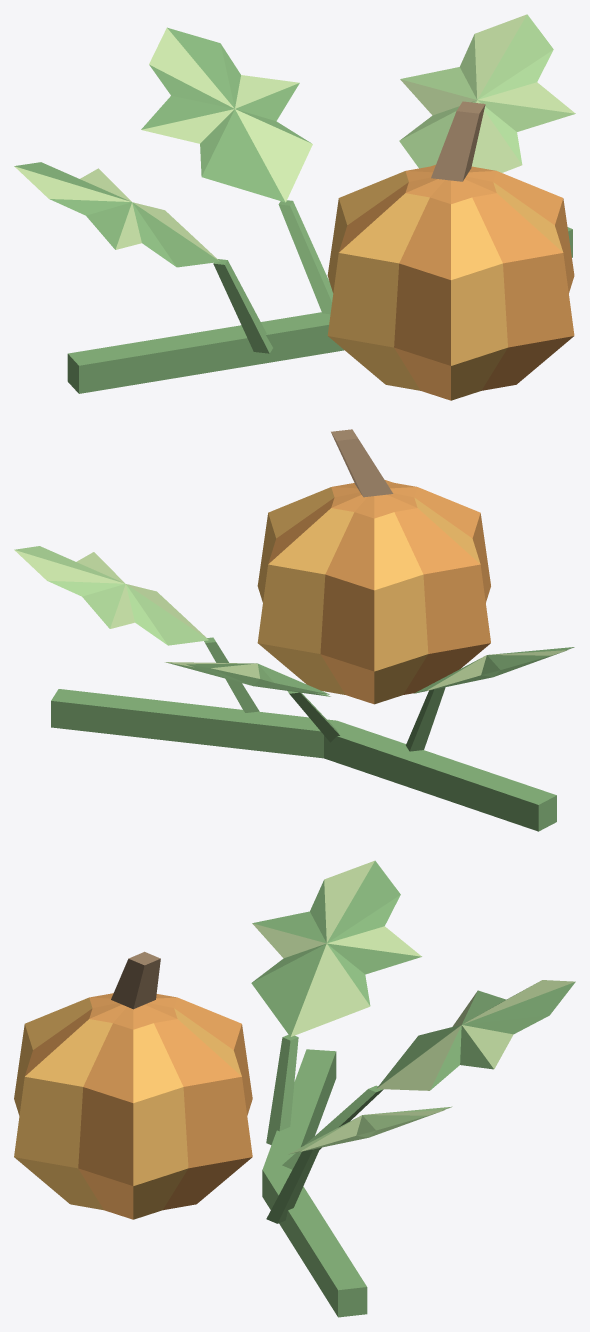
File: crop_pumpkin_s2.glb
3 views of the same model, one above another, from view 1: azimuth 30°, elevation 25°; view 2: azimuth 150°, elevation 25°; view 3: azimuth 270°, elevation 25° (orthographic). The views are drawn at different scales.
Parts seen in each view (by area): view 1: crop_pumpkin_s2; view 2: crop_pumpkin_s2; view 3: crop_pumpkin_s2.
Part boxes in pixels (<box>): crop_pumpkin_s2: <box>14,14,575,400</box>; crop_pumpkin_s2: <box>14,429,574,831</box>; crop_pumpkin_s2: <box>14,860,575,1317</box>.
Bounding box in the file's own units: 0.4818 × 0.232 × 0.4485.
